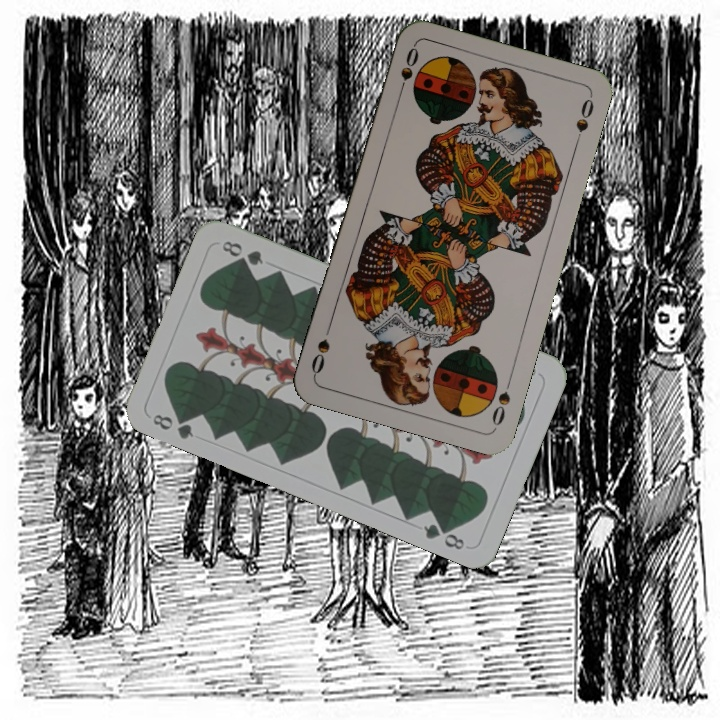G8: (148, 409, 197, 442)
SO: (394, 43, 422, 101), (487, 372, 515, 429)
